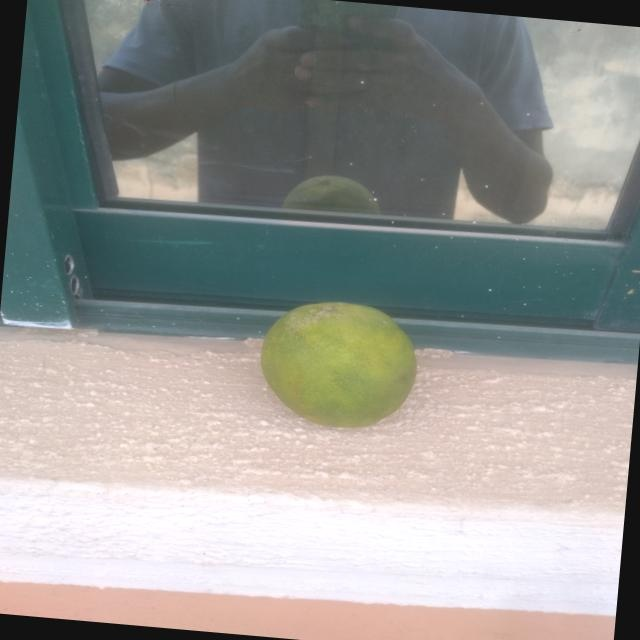agrume: (243, 286, 431, 435)
